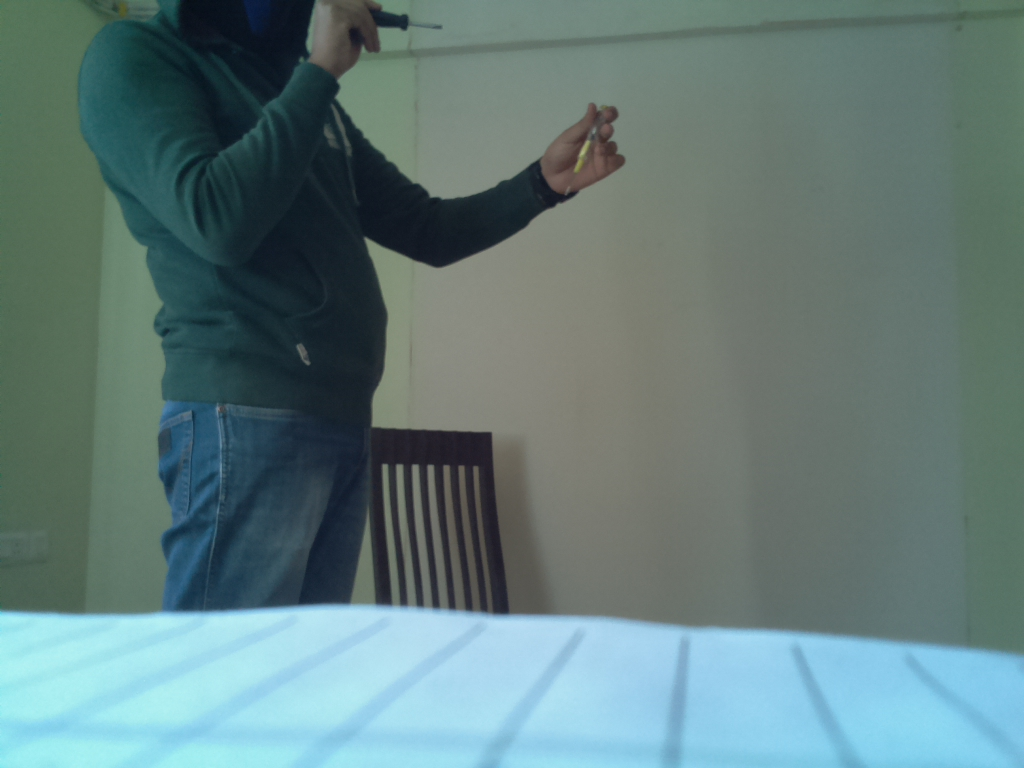none3: (558, 117, 606, 197), (357, 3, 450, 43)
